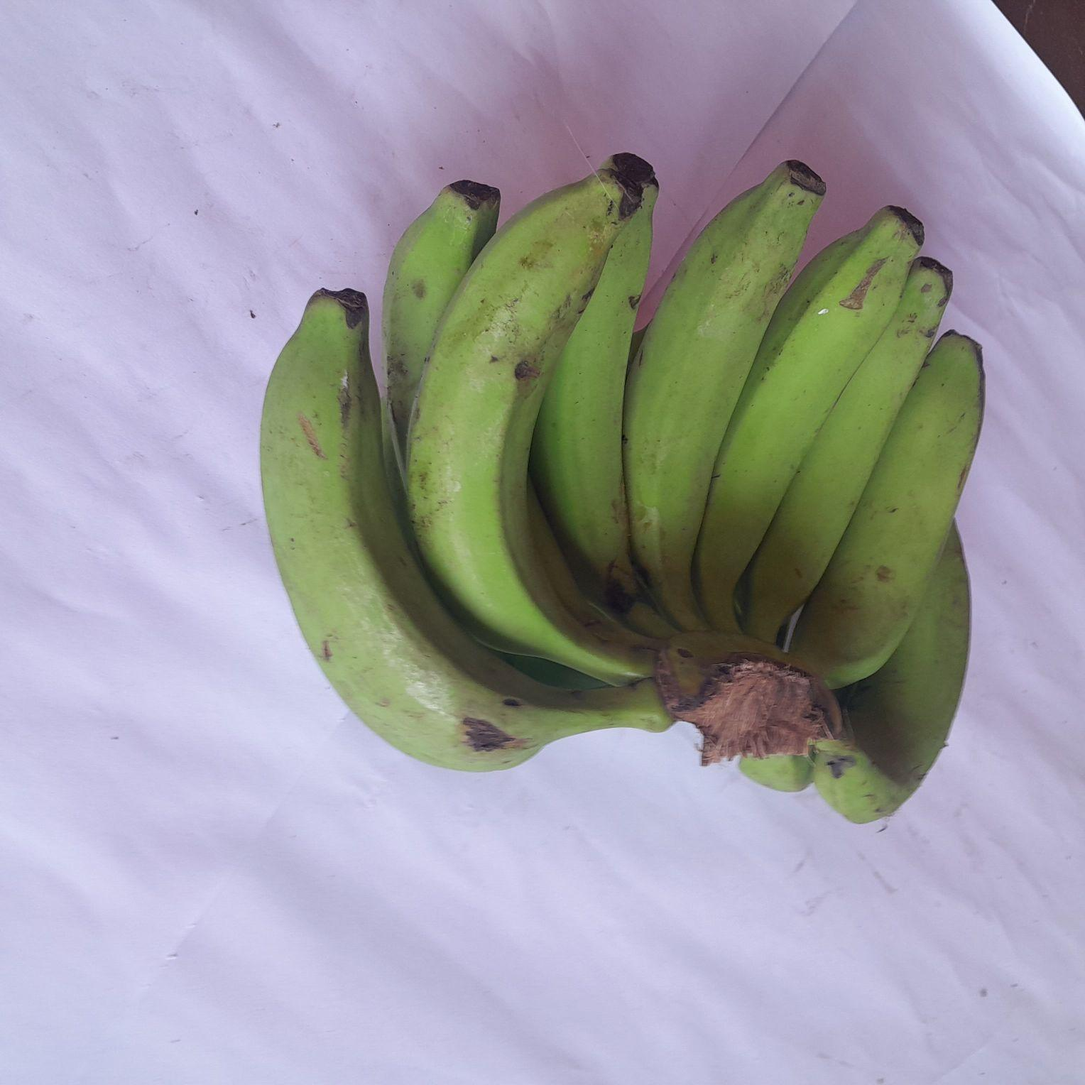Banana Unripe: (261, 290, 674, 770), (407, 155, 655, 684), (693, 210, 922, 629), (623, 161, 824, 630), (737, 259, 951, 640), (790, 333, 983, 689), (530, 186, 670, 636), (814, 526, 971, 822), (381, 180, 500, 470)
